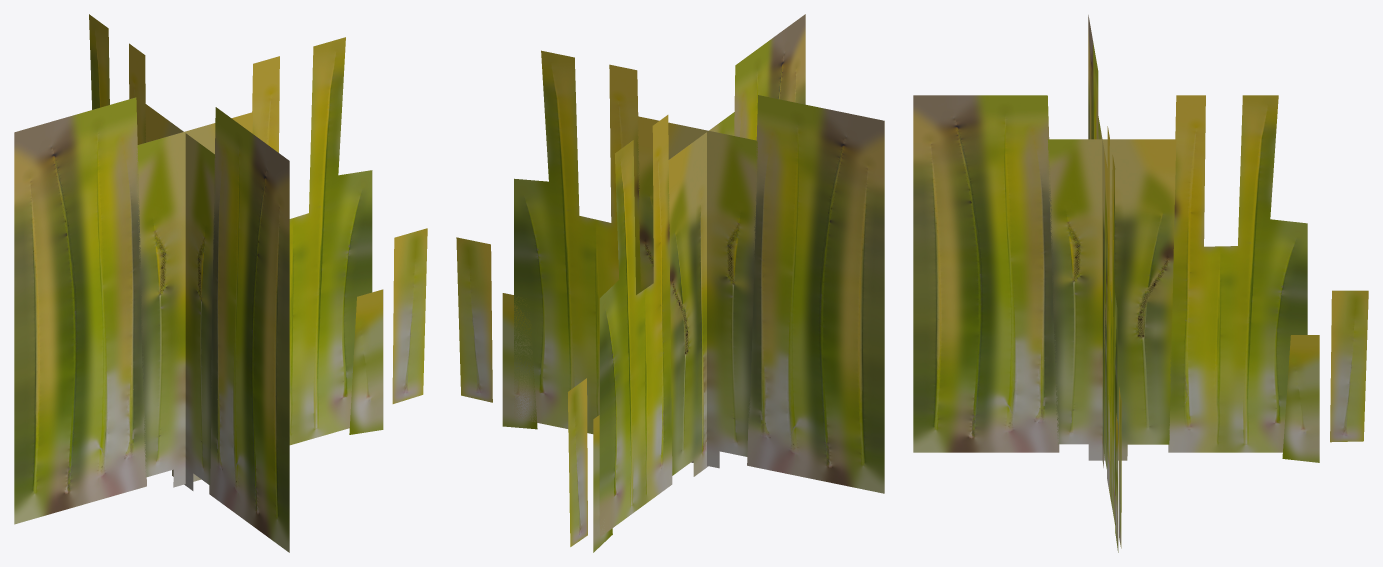
Rendered from GRass.glb.
3 views of the same model, side by side, from view 1: azimuth 30°, elevation 25°; view 2: azimuth 150°, elevation 25°; view 3: azimuth 270°, elevation 25° (orthographic). The views are drawn at different scales.
Visible parts, largest first — view 1: Plane.020, Plane.005; view 2: Plane.020, Plane.005; view 3: Plane.005, Plane.020.
Boxes of the visible parts, bbox=[...] form: Plane.020: bbox=[14, 37, 427, 524]; Plane.005: bbox=[89, 14, 289, 552]; Plane.020: bbox=[456, 50, 884, 493]; Plane.005: bbox=[568, 14, 805, 552]; Plane.005: bbox=[913, 95, 1368, 462]; Plane.020: bbox=[1088, 15, 1121, 552].
Size of the model in its own units: 2.3 by 2.07 by 2.31.
Materials: 1 (1 with a texture image).
